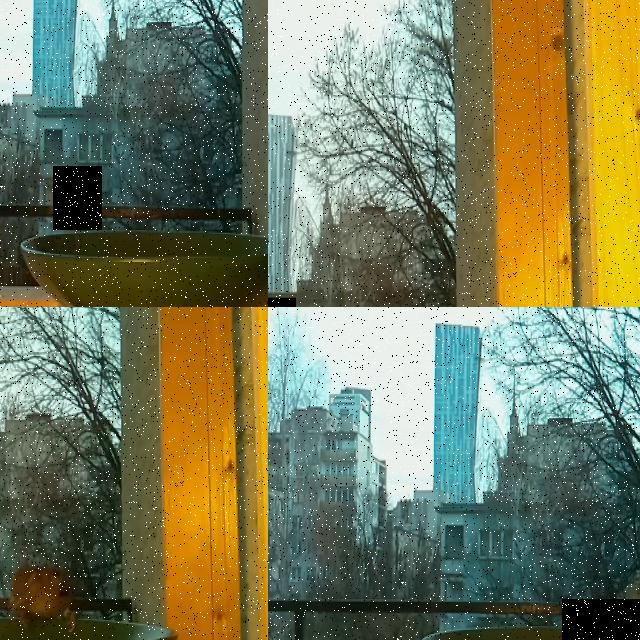Modraszka: (562, 599, 640, 640), (53, 166, 102, 230)
Wrobel: (8, 561, 83, 627)
